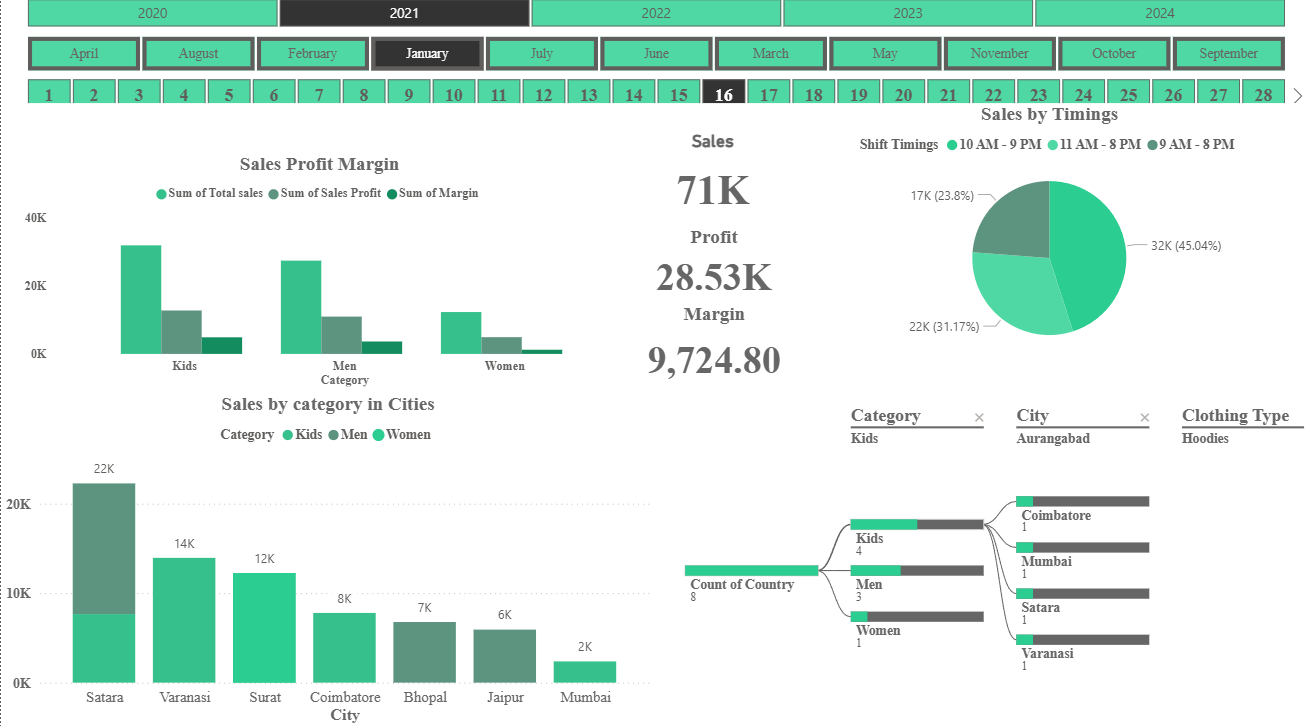

Layout of this report page (visuals, bound fields, positions):
{"tool":"powerbi","page":{"name":"Sales","canvas":[1280,720],"ordinal":0},"visuals":[{"type":"slicer","fields":{"Values":["Data.Month"]},"box":[0,36.7,1280,42],"z":0},{"type":"clusteredColumnChart","title":"Sales Profit Margin","fields":{"Y":["Sum(Data.Total sales)","Sum(Data.Sales Profit)","Sum(Data.Margin)"],"Category":["Data.Category"]},"box":[0,158.1,623.4,233.3],"z":1000},{"type":"card","title":"Sales","fields":{"Values":["Sum(Data.Total sales)"]},"box":[623.2,136.3,145.5,91.9],"z":2000},{"type":"card","title":"Margin","fields":{"Values":["Sum(Data.Margin)"]},"box":[623.2,304.7,148.5,87.3],"z":3000},{"type":"card","title":"Profit","fields":{"Values":["Sum(Data.Sales Profit)"]},"box":[624.7,228.1,145.5,76.6],"z":4000},{"type":"pieChart","title":"Sales by Timings","fields":{"Category":["Data.Operating Hours"],"Y":["Sum(Data.Total sales)"]},"box":[771.7,108.7,508.3,252.6],"z":5000},{"type":"lineStackedColumnComboChart","title":"Sales by category in Cities","fields":{"Y":["Sum(Data.Total sales)"],"Category":["Data.City"],"Series":["Data.Category"]},"box":[0,392,640,327.7],"z":6000},{"type":"decompositionTreeVisual","fields":{"ExplainBy":["Data.Category","Data.City","Data.Clothing Type","Data.Sales Profit","Data.Quantity","Data.Total sales","Data.Price"],"Analyze":["CountNonNull(Data.Country)"]},"box":[640,390.4,640,327.7],"z":7000},{"type":"slicer","fields":{"Values":["Data.Store Open Date.Variation.Date Hierarchy.Year"]},"box":[0,0,1280,34],"z":8000},{"type":"slicer","fields":{"Values":["Data.Store Open Date.Variation.Date Hierarchy.Day"]},"box":[0,78.1,1280,30.6],"z":9000}]}

Visuals, with their boxes in screenshot pixels (x1, y1, x2, y2), scaled from the page's 1280x720 canvas onto the 1308x727 screenshot:
slicer - Data.Month: (0,37,1307,79)
"Sales Profit Margin" clusteredColumnChart: (0,160,637,395)
"Sales" card: (637,138,786,230)
"Margin" card: (637,308,789,396)
"Profit" card: (638,230,787,308)
"Sales by Timings" pieChart: (789,110,1307,365)
"Sales by category in Cities" lineStackedColumnComboChart: (0,396,654,726)
decompositionTreeVisual - Data.Category x Data.City: (654,394,1307,725)
slicer - Data.Store Open Date.Variation.Date Hierarchy.Year: (0,0,1307,34)
slicer - Data.Store Open Date.Variation.Date Hierarchy.Day: (0,79,1307,110)
